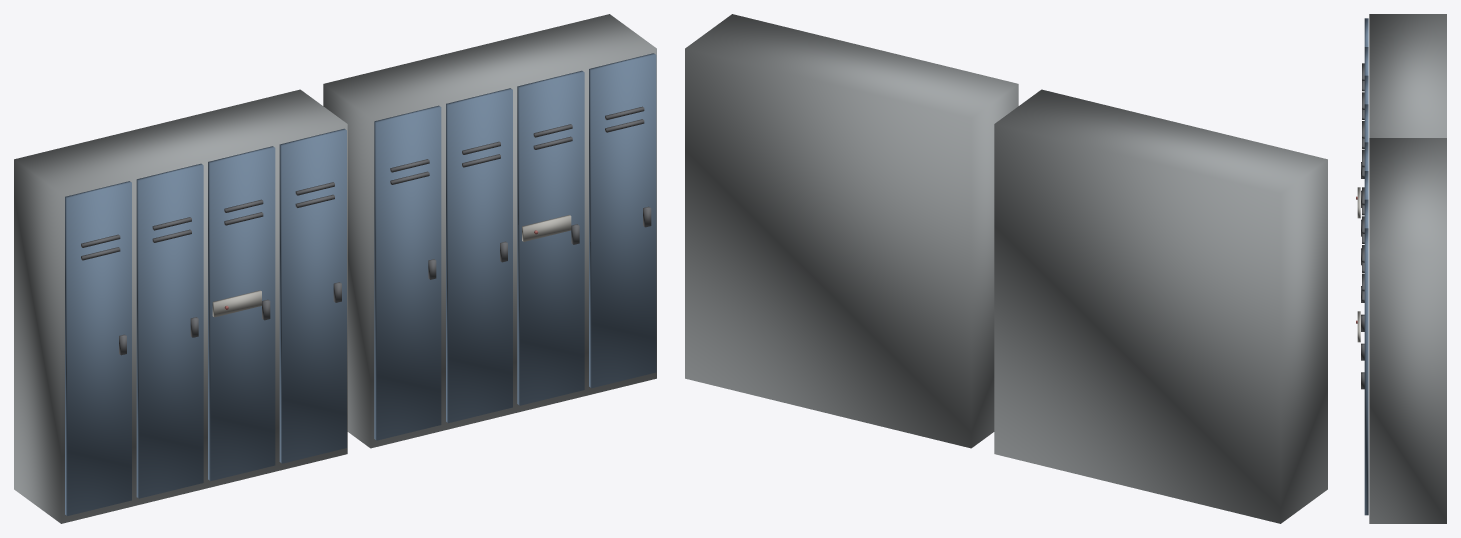
Rendered from property_locker_bank__cluster.glb.
3 views of the same model, side by side, from view 1: azimuth 30°, elevation 25°; view 2: azimuth 150°, elevation 25°; view 3: azimuth 270°, elevation 25° (orthographic). The views are drawn at different scales.
Parts seen in each view (by area): view 1: world; view 2: world; view 3: world.
Part boxes in pixels (<box>): world: <box>14,14,656,523</box>; world: <box>685,14,1327,523</box>; world: <box>1356,14,1446,523</box>.
Bounding box in the file's own units: 3.49 × 1.85 × 0.561.
